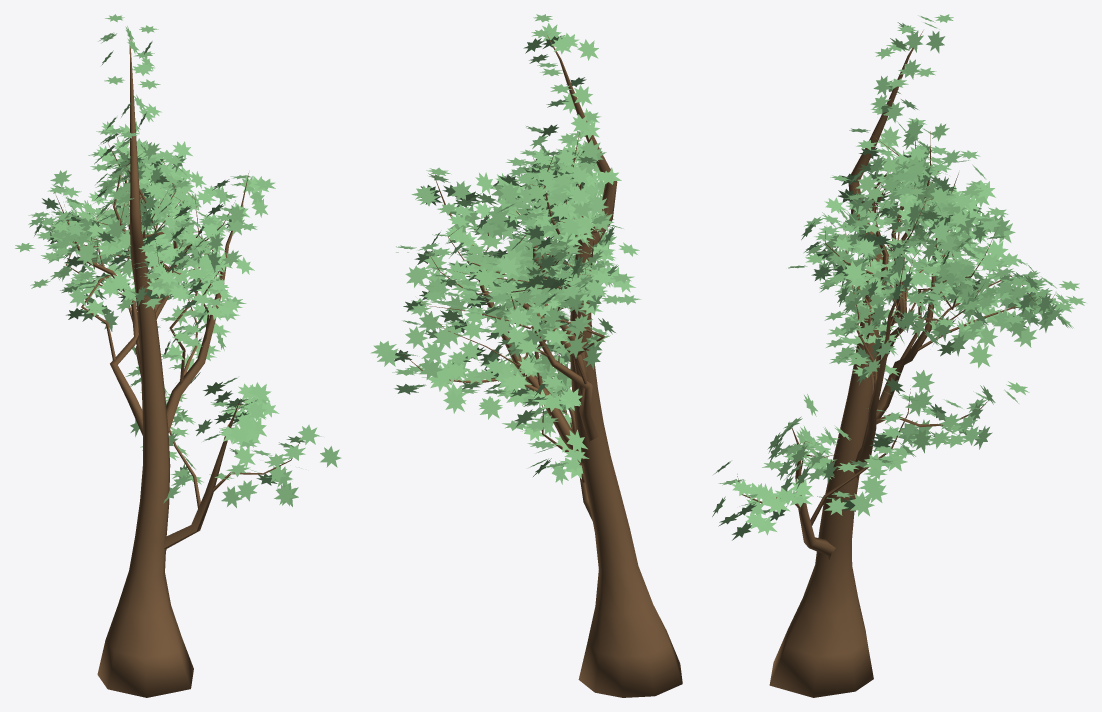
The model's file is acer-palmatum-mature-v3.glb.
The picture shows the model from 3 angles, left to right: view 1: azimuth 30°, elevation 25°; view 2: azimuth 150°, elevation 25°; view 3: azimuth 270°, elevation 25°; orthographic projection. The views are drawn at different scales.
Parts seen in each view (by area): view 1: ToonlabTree; view 2: ToonlabTree; view 3: ToonlabTree.
Part boxes in pixels (x1,y1,x2,y2): ToonlabTree: [15, 14, 341, 697]; ToonlabTree: [370, 14, 682, 697]; ToonlabTree: [712, 14, 1085, 697].
Bounding box in the file's own units: 2.33 × 6.08 × 3.1.
